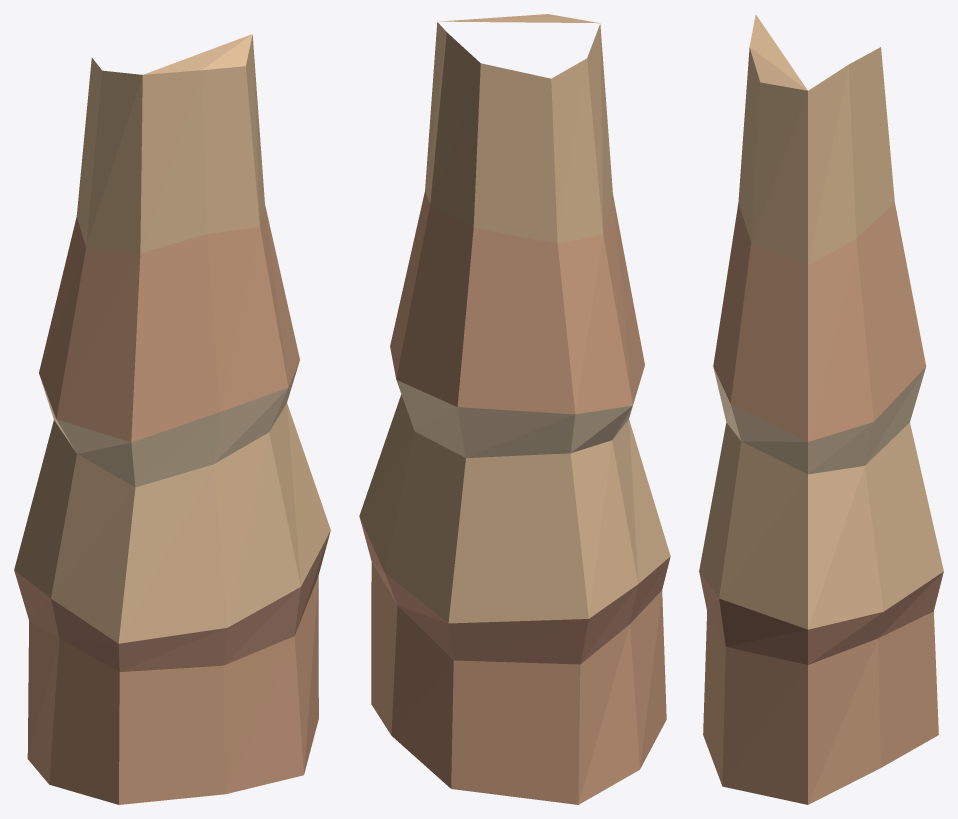
The picture shows the model from 3 angles, left to right: view 1: azimuth 30°, elevation 25°; view 2: azimuth 150°, elevation 25°; view 3: azimuth 270°, elevation 25°; orthographic projection. The views are drawn at different scales.
Bounding box in the file's own units: 19.56 × 47.97 × 15.12.
